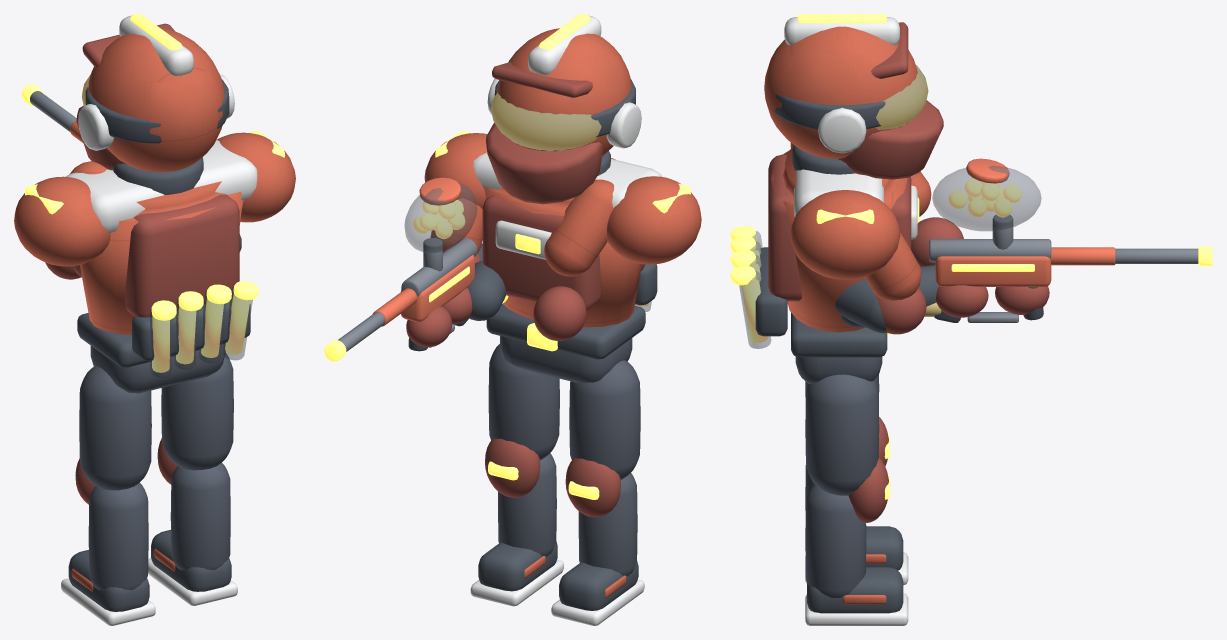
The model's file is player_red.glb.
3 views of the same model, side by side, from view 1: azimuth 30°, elevation 25°; view 2: azimuth 150°, elevation 25°; view 3: azimuth 270°, elevation 25° (orthographic). The views are drawn at different scales.
Visible parts, largest first — view 1: HelmetShell, BackPlate, Thigh_L, Thigh_R, PauldronL, Shin_L, Shin_R, TorsoJersey, ShoulderYoke, PauldronR, Pelvis, HarnessStrap (+27 smaller); view 2: HelmetShell, Thigh_L, PauldronL, MaskJaw, Thigh_R, ChestPlateMain, TorsoJersey, UpperArmL, Shin_L, Shin_R, ThermalVisor, HopperShell (+28 smaller); view 3: HelmetShell, Thigh_R, PauldronR, Shin_R, HopperShell, MaskJaw, TorsoJersey, BackPlate, MarkerReceiver, Belt, BootUpper_R, MarkerBoltTube (+27 smaller).
Boxes of the visible parts, x1,y1,x2,y2 form: HelmetShell: [88, 28, 224, 172]; BackPlate: [125, 194, 239, 317]; Thigh_L: [79, 366, 151, 490]; Thigh_R: [161, 353, 233, 470]; PauldronL: [14, 176, 110, 266]; Shin_L: [88, 482, 148, 590]; Shin_R: [170, 463, 230, 570]; TorsoJersey: [80, 181, 243, 334]; ShoulderYoke: [65, 140, 257, 233]; PauldronR: [217, 132, 295, 222]; Pelvis: [90, 344, 225, 393]; HarnessStrap: [132, 297, 250, 360]; HelmetShell: [497, 28, 631, 156]; Thigh_L: [569, 360, 640, 479]; PauldronL: [607, 176, 701, 264]; MaskJaw: [485, 123, 602, 204]; Thigh_R: [488, 344, 559, 460]; ChestPlateMain: [482, 195, 601, 310]; TorsoJersey: [484, 158, 642, 327]; UpperArmL: [544, 179, 614, 276]; Shin_L: [578, 473, 637, 576]; Shin_R: [498, 453, 556, 556]; ThermalVisor: [491, 92, 601, 150]; HopperShell: [404, 182, 477, 253]; HelmetShell: [764, 26, 917, 158]; Thigh_R: [805, 374, 879, 495]; PauldronR: [790, 190, 900, 279]; Shin_R: [805, 484, 866, 597]; HopperShell: [932, 165, 1041, 231]; MaskJaw: [838, 100, 943, 179]; TorsoJersey: [770, 145, 907, 332]; BackPlate: [768, 154, 801, 301]; MarkerReceiver: [935, 256, 1051, 286]; Belt: [791, 312, 887, 357]; BootUpper_R: [807, 567, 903, 613]; MarkerBoltTube: [929, 239, 1051, 262].
Size of the model in its own units: 0.9732 by 1.99 by 1.5.
Materials: 12 (1 with a texture image).
